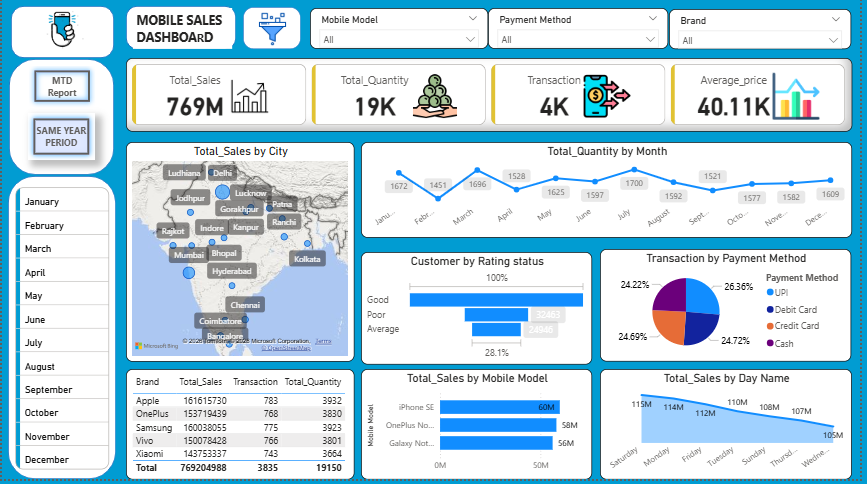

The page's visual inventory and layout, read from the dashboard file:
{"tool":"powerbi","page":{"name":"Dashboard","canvas":[1280,720],"ordinal":0},"visuals":[{"type":"shape","box":[13.2,13.2,153.7,77.6],"z":0},{"type":"image","box":[20.5,8.8,137.6,83.4],"z":1000},{"type":"shape","box":[10.2,92.2,156.6,172.7],"z":2000},{"type":"shape","box":[8.8,267.8,161,452.2],"z":3000},{"type":"advancedSlicerVisual","fields":{"Values":["custom data.Dates.Variation.Date Hierarchy.Month"]},"box":[14.6,279.5,150.7,440.5],"z":4000},{"type":"cardVisual","fields":{"Data":["Sheet1.Total_Sales","Sheet1.Total_Quantity","Sheet1.Transaction","Sheet1.Average_price"]},"box":[184.4,90.7,1084.4,109.8],"z":5000},{"type":"slicer","fields":{"Values":["Sheet1.Mobile Model"]},"box":[459.5,16.1,266.3,61.5],"z":6000},{"type":"slicer","fields":{"Values":["Sheet1.Payment Method"]},"box":[725.9,16.1,269.3,61.5],"z":7000},{"type":"slicer","fields":{"Values":["Sheet1.Brand"]},"box":[995.1,17.6,272.2,60],"z":8000},{"type":"shape","box":[184.4,13.2,163.9,64.4],"z":9000},{"type":"textbox","box":[196.1,16.1,147.8,61.5],"z":10000},{"type":"shape","box":[360,14.6,86.3,62.9],"z":11000},{"type":"image","box":[348.3,17.6,111.2,60],"z":12000},{"type":"map","fields":{"Category":["Sheet1.City"],"Size":["Sheet1.Total_Sales"]},"box":[184.4,216.6,341,327.8],"z":13000},{"type":"lineChart","fields":{"Category":["custom data.Dates.Variation.Date Hierarchy.Month"],"Y":["Sheet1.Total_Quantity"]},"box":[535.6,216.6,733.2,143.4],"z":14000},{"type":"funnel","title":" Customer by Rating status","fields":{"Y":["Sheet1.Customer Age"],"Category":["Sheet1.Rating status"]},"box":[535.6,380.5,345.4,168.3],"z":15000},{"type":"pieChart","fields":{"Category":["Sheet1.Payment Method"],"Y":["Sheet1.Transaction"]},"box":[892.7,376.1,374.6,168.3],"z":16000},{"type":"clusteredBarChart","fields":{"Y":["Sheet1.Total_Sales"],"Category":["Sheet1.Mobile Model"]},"box":[535.6,554.6,345.4,165.4],"z":17000},{"type":"areaChart","fields":{"Y":["Sheet1.Total_Sales"],"Category":["custom data.Day Name"]},"box":[892.7,554.6,376.1,165.4],"z":18000},{"type":"tableEx","fields":{"Values":["Sheet1.Brand","Sheet1.Total_Sales","Sheet1.Transaction","Sheet1.Total_Quantity"]},"box":[184.4,554.6,341,165.4],"z":19000},{"type":"pageNavigator","box":[0,0,600,50],"z":20000},{"type":"actionButton","box":[41,102,99,63],"z":21000},{"type":"actionButton","box":[39.5,172.7,99.5,70.2],"z":22000}]}

Visuals, with their boxes in screenshot pixels (x1, y1, x2, y2), scaled from the page's 1280x720 canvas onto the 867x484 screenshot:
shape: bbox=(9, 9, 113, 61)
image: bbox=(14, 6, 107, 62)
shape: bbox=(7, 62, 113, 178)
shape: bbox=(6, 180, 115, 483)
advancedSlicerVisual - custom data.Dates.Variation.Date Hierarchy.Month: bbox=(10, 188, 112, 483)
cardVisual - Sheet1.Total_Sales x Sheet1.Total_Quantity: bbox=(125, 61, 859, 135)
slicer - Sheet1.Mobile Model: bbox=(311, 11, 492, 52)
slicer - Sheet1.Payment Method: bbox=(492, 11, 674, 52)
slicer - Sheet1.Brand: bbox=(674, 12, 858, 52)
shape: bbox=(125, 9, 236, 52)
textbox: bbox=(133, 11, 233, 52)
shape: bbox=(244, 10, 302, 52)
image: bbox=(236, 12, 311, 52)
map - Sheet1.City x Sheet1.Total_Sales: bbox=(125, 146, 356, 366)
lineChart - custom data.Dates.Variation.Date Hierarchy.Month x Sheet1.Total_Quantity: bbox=(363, 146, 859, 242)
" Customer by Rating status" funnel: bbox=(363, 256, 597, 369)
pieChart - Sheet1.Payment Method x Sheet1.Transaction: bbox=(605, 253, 858, 366)
clusteredBarChart - Sheet1.Total_Sales x Sheet1.Mobile Model: bbox=(363, 373, 597, 483)
areaChart - Sheet1.Total_Sales x custom data.Day Name: bbox=(605, 373, 859, 483)
tableEx - Sheet1.Brand x Sheet1.Total_Sales: bbox=(125, 373, 356, 483)
pageNavigator: bbox=(0, 0, 406, 34)
actionButton: bbox=(28, 69, 95, 111)
actionButton: bbox=(27, 116, 94, 163)
